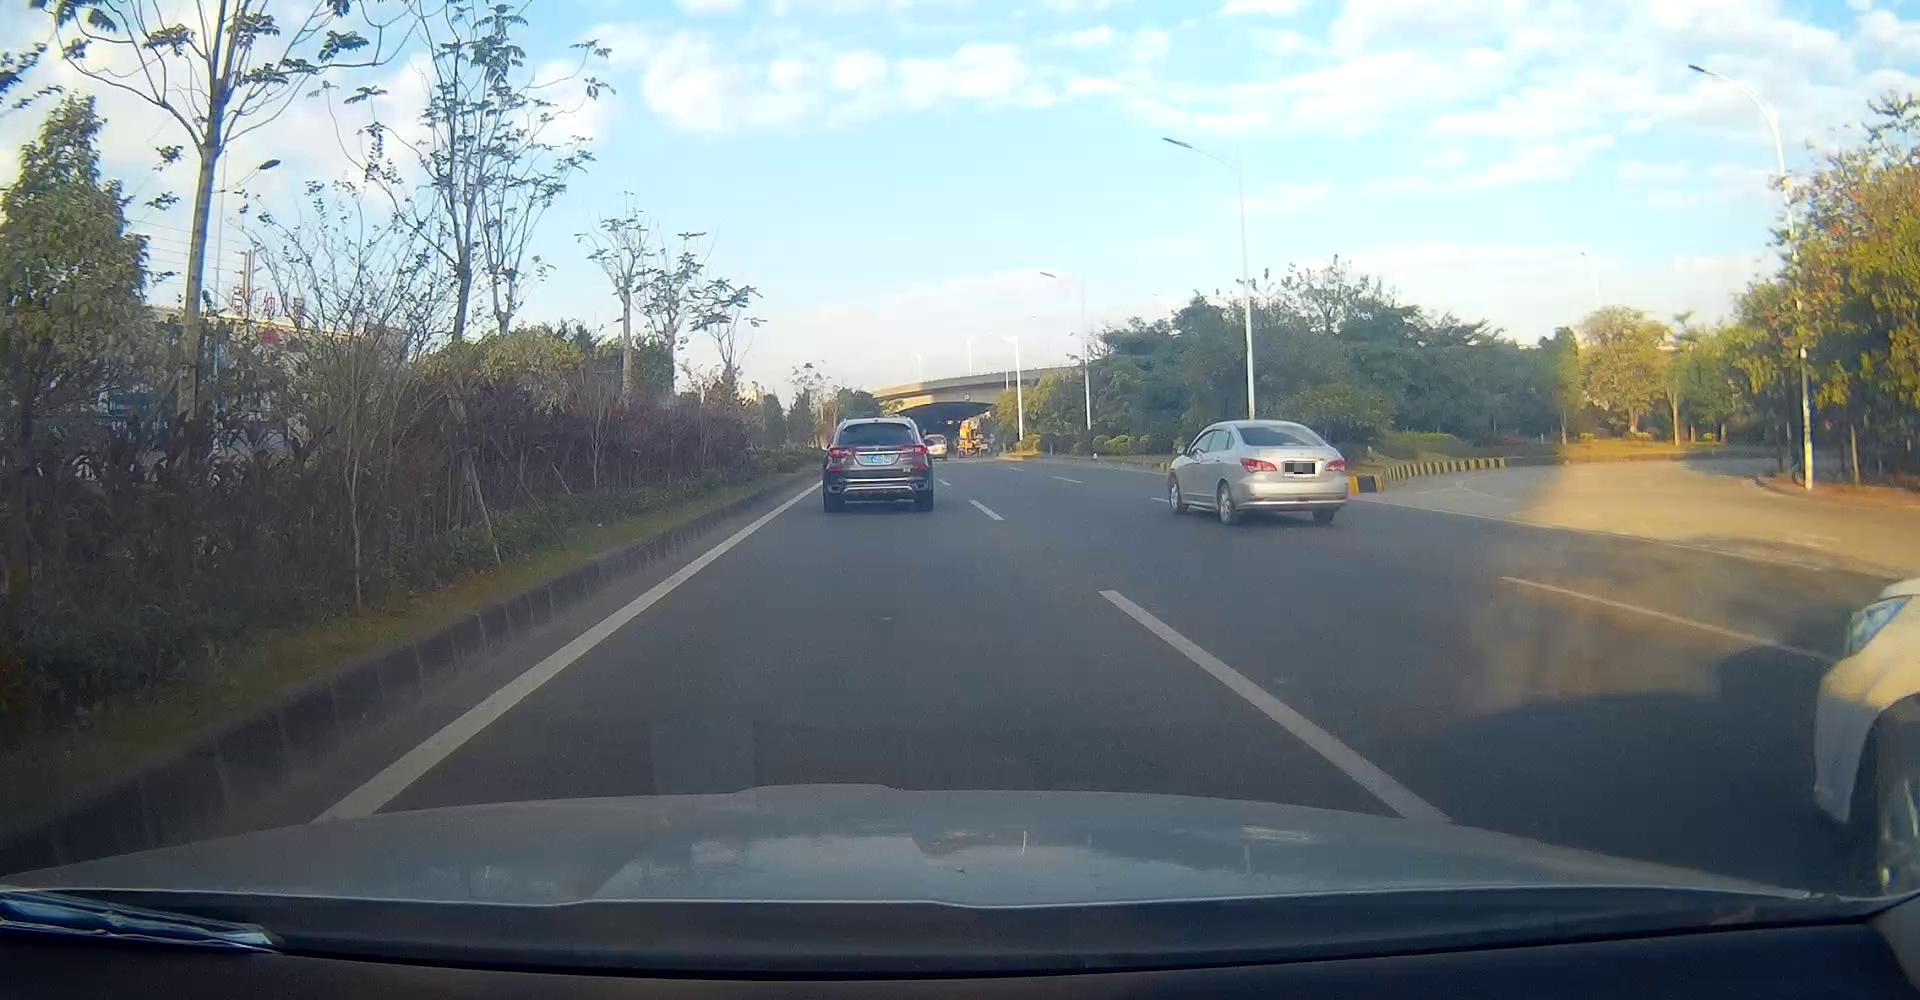L_light: (1239, 457, 1277, 473), (828, 447, 853, 458)
R_light: (1324, 458, 1345, 472), (902, 444, 926, 456)
T_light: (1280, 440, 1300, 447), (870, 420, 888, 426)
day-no: (1232, 420, 1349, 525), (827, 418, 931, 511)
plate_1: (1285, 463, 1316, 475)
